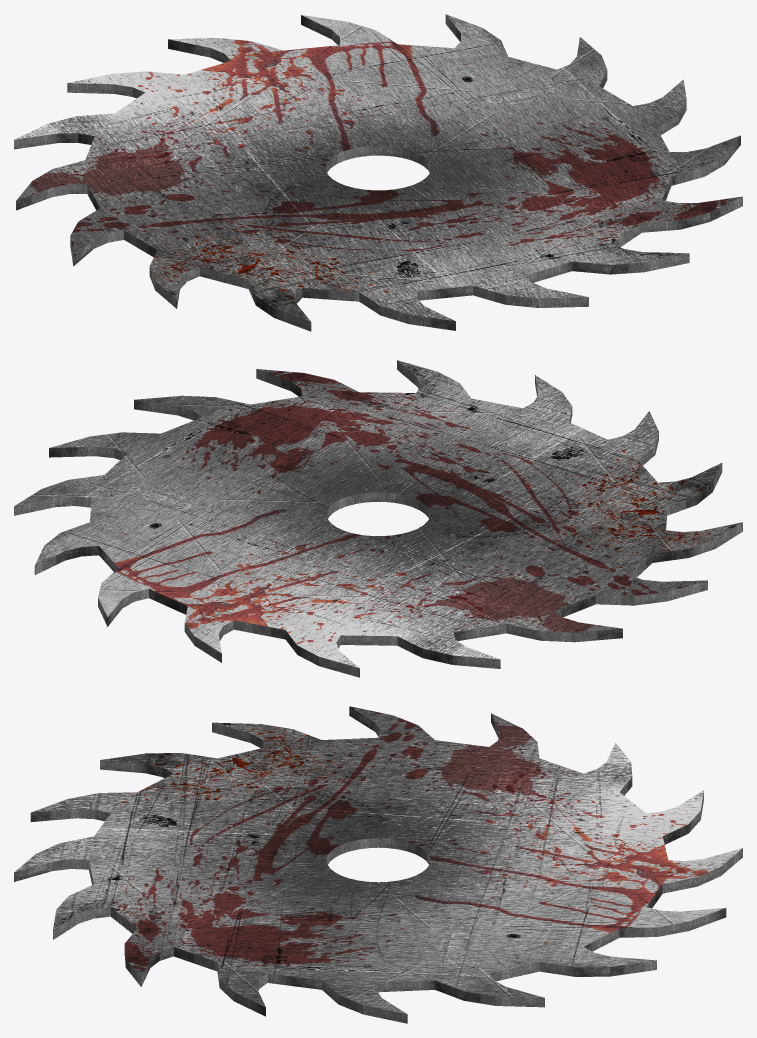
Rendered from discoMetal.fbx.
The picture shows the model from 3 angles, top to bottom: view 1: azimuth 30°, elevation 25°; view 2: azimuth 150°, elevation 25°; view 3: azimuth 270°, elevation 25°; orthographic projection.
Visible parts, largest first — view 1: Circle; view 2: Circle; view 3: Circle.
Boxes of the visible parts, x1=… form: Circle: x1=14, y1=14, x2=742, y2=331; Circle: x1=14, y1=360, x2=742, y2=677; Circle: x1=14, y1=706, x2=742, y2=1023.
Size of the model in its own units: 1016 by 14.68 by 1016.
Materials: 1 (1 with a texture image).
